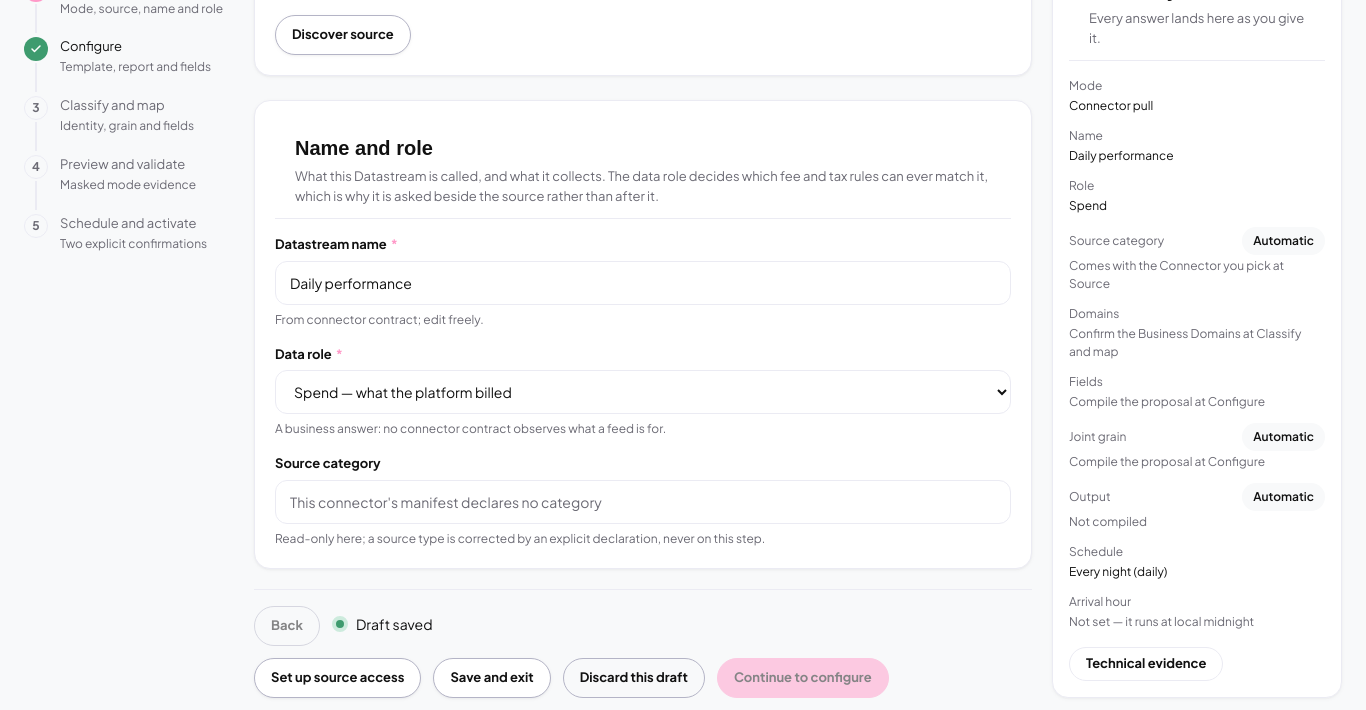
Scenario: shows a refusal instead of pretending the draft is gone
This screenshot has width=1366, height=710.
(page scrolled)
Click the button "Discard this draft".
click(634, 678)  # box [563,658,705,698]
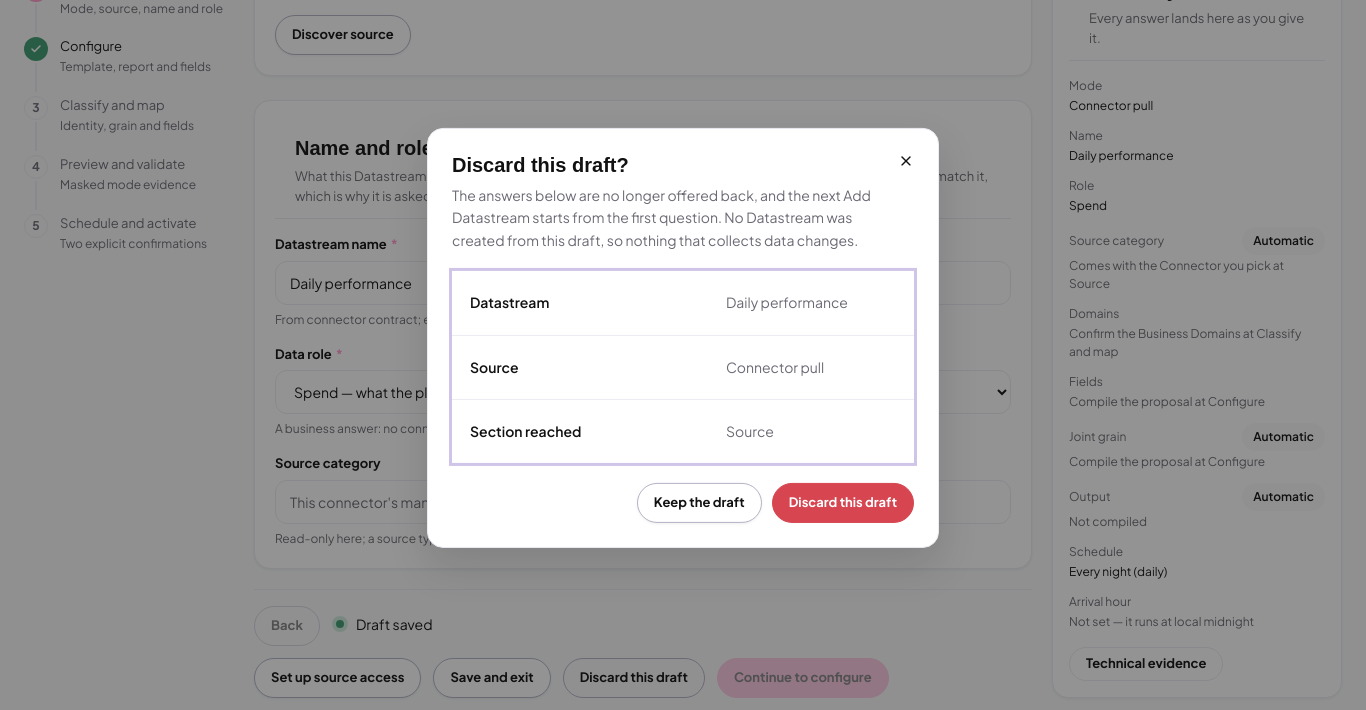
Click the button with test id "datastream-setup-discard-confirm".
click(843, 503)  # box [772,483,914,523]
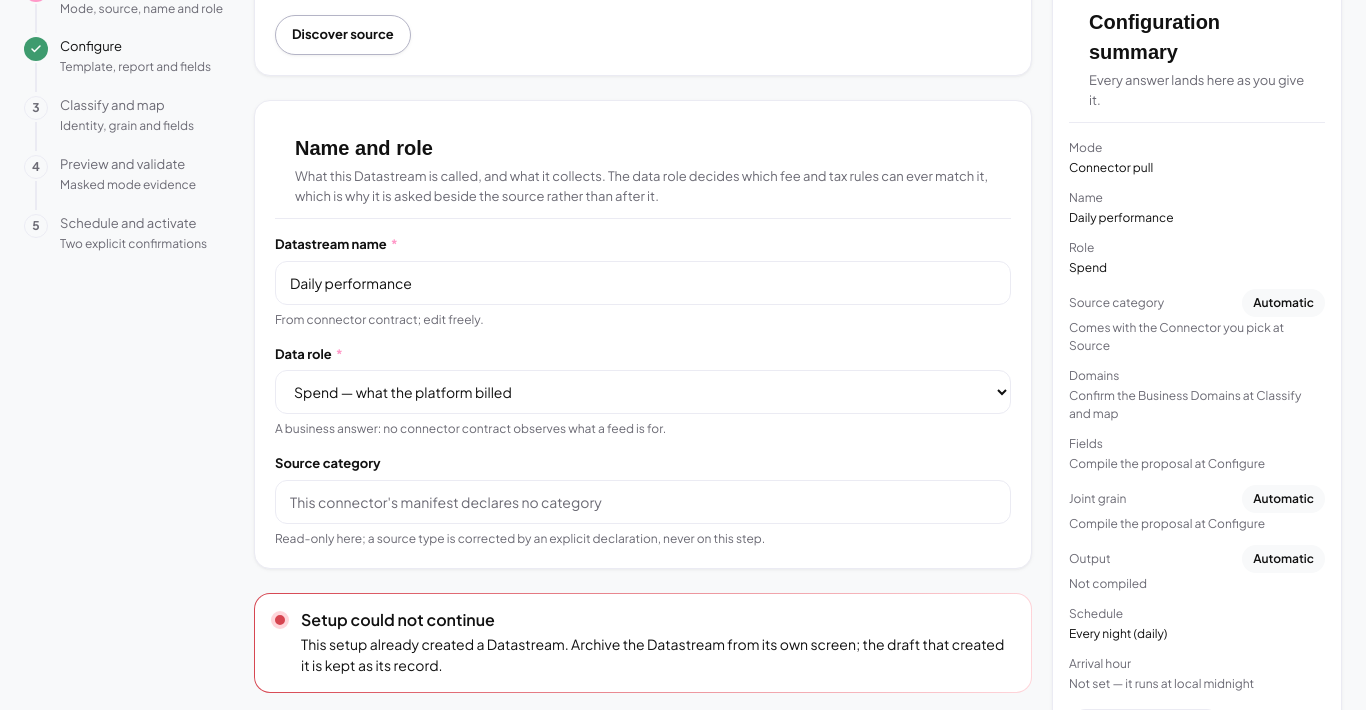
Expected: the text "Archive the Datastream from its own screen" is shown, [301,635,1004,674]
